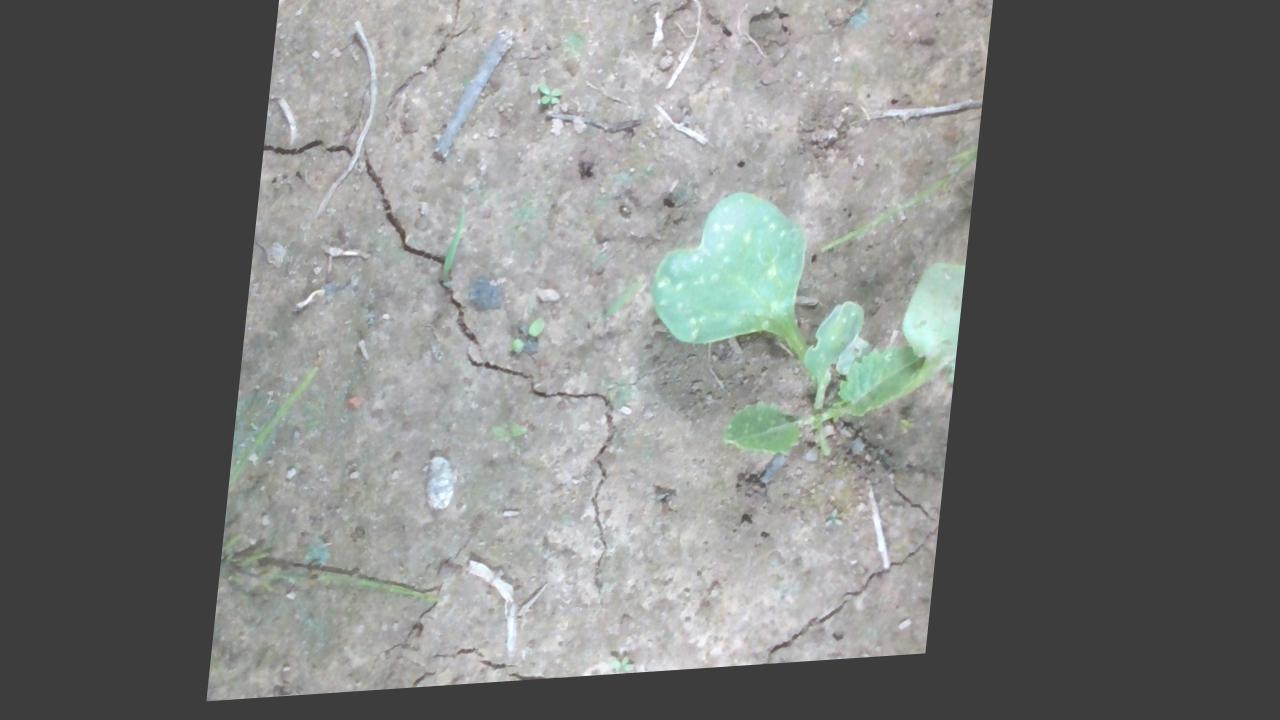weed: (516, 322, 556, 361), (539, 86, 571, 114), (498, 429, 540, 449), (626, 663, 656, 682)
